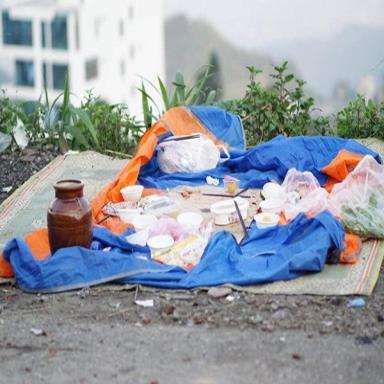plasticbag: (46, 81, 383, 296), (272, 148, 383, 242), (153, 123, 235, 179)
